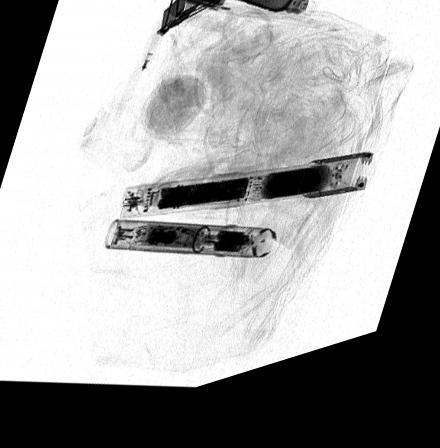Baton: (117, 174, 372, 227), (100, 227, 275, 275)
